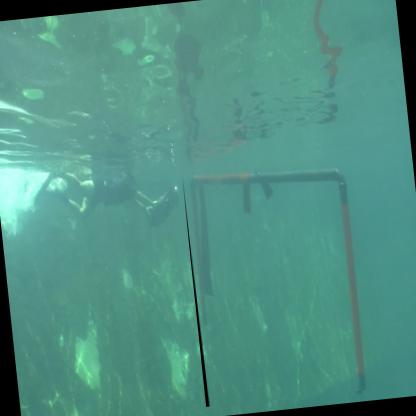gate: (183, 158, 371, 409)
